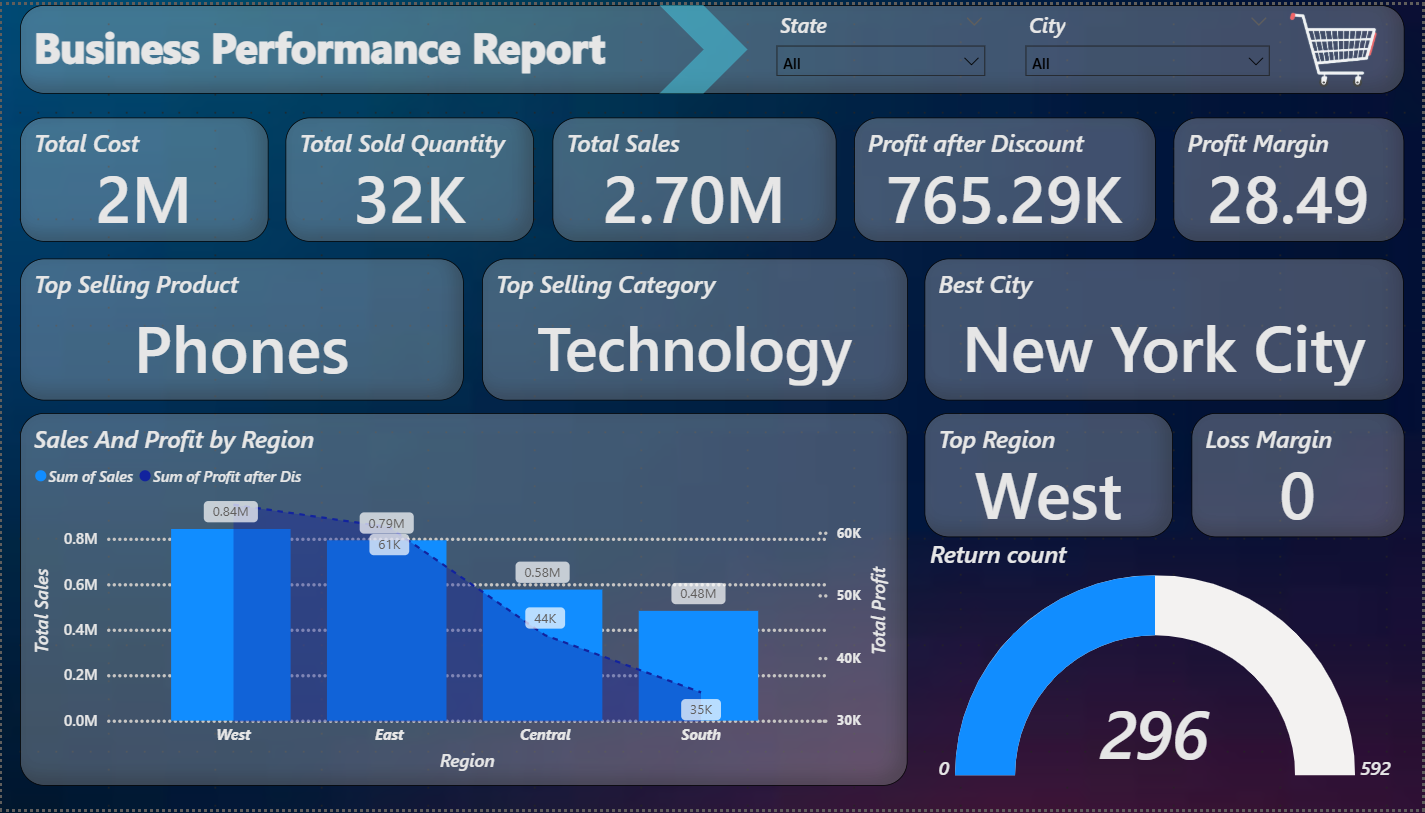

Layout of this report page (visuals, bound fields, positions):
{"tool":"powerbi","page":{"name":"Page 1","canvas":[1280,724],"ordinal":0},"visuals":[{"type":"card","title":"Total Cost","fields":{"Values":["Sum(Orders.Total Cost)"]},"box":[16,101.1,224,112],"z":0},{"type":"card","title":"Total Sales","fields":{"Values":["Sum(Orders.Sales)"]},"box":[496,101.1,256,112],"z":1000},{"type":"card","title":"Profit after Discount","fields":{"Values":["Sum(Orders.Custom)"]},"box":[768,101.1,272,112],"z":3000},{"type":"card","title":"Top Region","fields":{"Values":["Min(Orders.Region)"]},"box":[832,368,224,112],"z":9001},{"type":"card","title":"Total Sold Quantity","fields":{"Values":["Sum(Orders.Quantity)"]},"box":[256,101.1,224,112],"z":9002},{"type":"card","title":"Top Selling Category","fields":{"Values":["Min(Orders.Category)"]},"box":[432,229.1,384,128],"z":9003},{"type":"card","title":"Top Selling Product","fields":{"Values":["Min(Orders.Sub-Category)"]},"box":[16,229.1,400,128],"z":9004},{"type":"card","title":"Best City","fields":{"Values":["Min(Orders.City)"]},"box":[832,229.1,432,128],"z":9005},{"type":"card","title":"Loss Margin","fields":{"Values":["R Measures.Loss Margin"]},"box":[1072,368,192,112],"z":9006},{"type":"card","title":"Profit Margin","fields":{"Values":["R Measures.Profit_margin"]},"box":[1056,101.1,208,112],"z":9007},{"type":"lineStackedColumnComboChart","title":"Sales And Profit by Region","fields":{"Category":["Orders.Region"],"Y":["Sum(Orders.Sales)"],"Y2":["Sum(Orders.Profit after Dis)"]},"box":[16,368,800,336],"z":9008},{"type":"textbox","box":[16,0,1248,80],"z":9010},{"type":"image","box":[1152,0,96,80],"z":9012},{"type":"shape","box":[592,0,80,80],"z":9013},{"type":"slicer","fields":{"Values":["Orders.State"]},"box":[688,0,208,80],"z":9014},{"type":"slicer","fields":{"Values":["Orders.City"]},"box":[912,0,240,80],"z":9015},{"type":"gauge","title":"Return count","fields":{"Y":["CountNonNull(Returns.Returned)"]},"box":[832,480,432,224],"z":9016}]}

Visuals, with their boxes in screenshot pixels (x1, y1, x2, y2), scaled from the page's 1280x724 canvas onto the 1425x813 screenshot:
"Total Cost" card: bbox=(18, 114, 267, 239)
"Total Sales" card: bbox=(552, 114, 837, 239)
"Profit after Discount" card: bbox=(855, 114, 1158, 239)
"Top Region" card: bbox=(926, 413, 1176, 539)
"Total Sold Quantity" card: bbox=(285, 114, 534, 239)
"Top Selling Category" card: bbox=(481, 257, 908, 401)
"Top Selling Product" card: bbox=(18, 257, 463, 401)
"Best City" card: bbox=(926, 257, 1407, 401)
"Loss Margin" card: bbox=(1193, 413, 1407, 539)
"Profit Margin" card: bbox=(1176, 114, 1407, 239)
"Sales And Profit by Region" lineStackedColumnComboChart: bbox=(18, 413, 908, 791)
textbox: bbox=(18, 0, 1407, 90)
image: bbox=(1282, 0, 1389, 90)
shape: bbox=(659, 0, 748, 90)
slicer - Orders.State: bbox=(766, 0, 998, 90)
slicer - Orders.City: bbox=(1015, 0, 1282, 90)
"Return count" gauge: bbox=(926, 539, 1407, 791)
